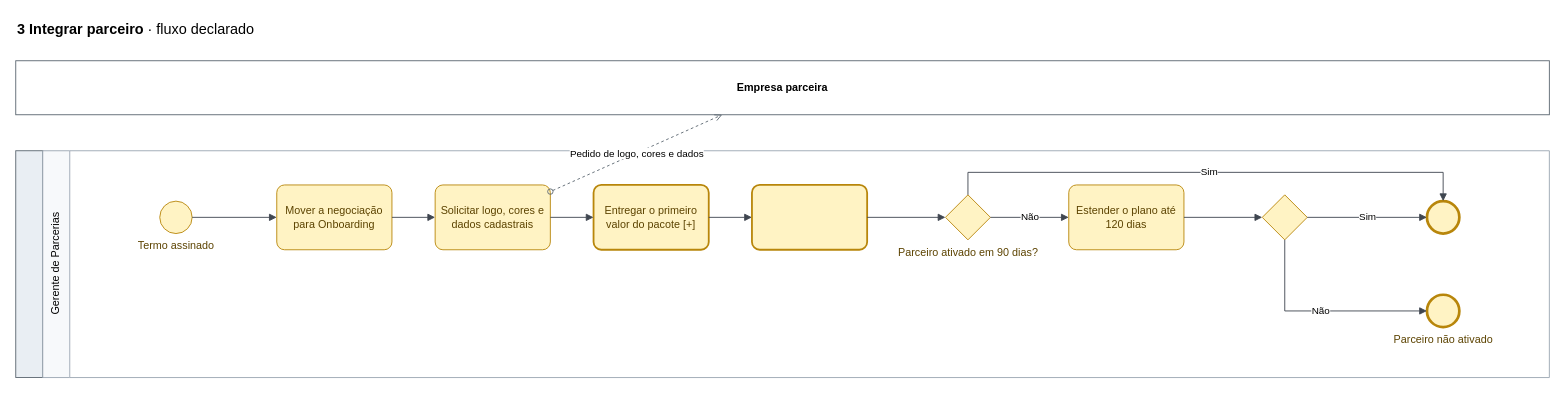
The diagram is 1565 pixels wide and 393 high, and some of its shapes have lost their labels. The centre of each missing label's shape, as x and y in pixels:
3 Integrar parceiro: the point at 29,264
Conduzir o plano de 90 dias [+]: the point at 809,217
Parceiro ativado: the point at 1442,216
Parceiro ativado em 120 dias?: the point at 1284,217
